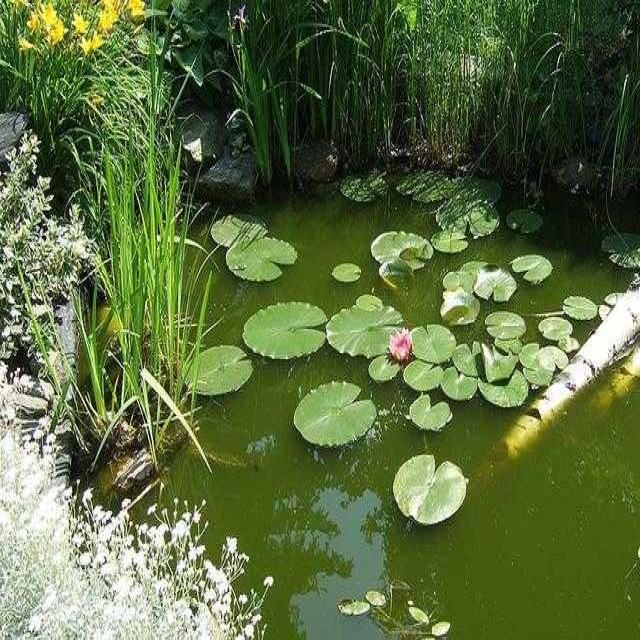Ponds: (76, 152, 640, 637)
